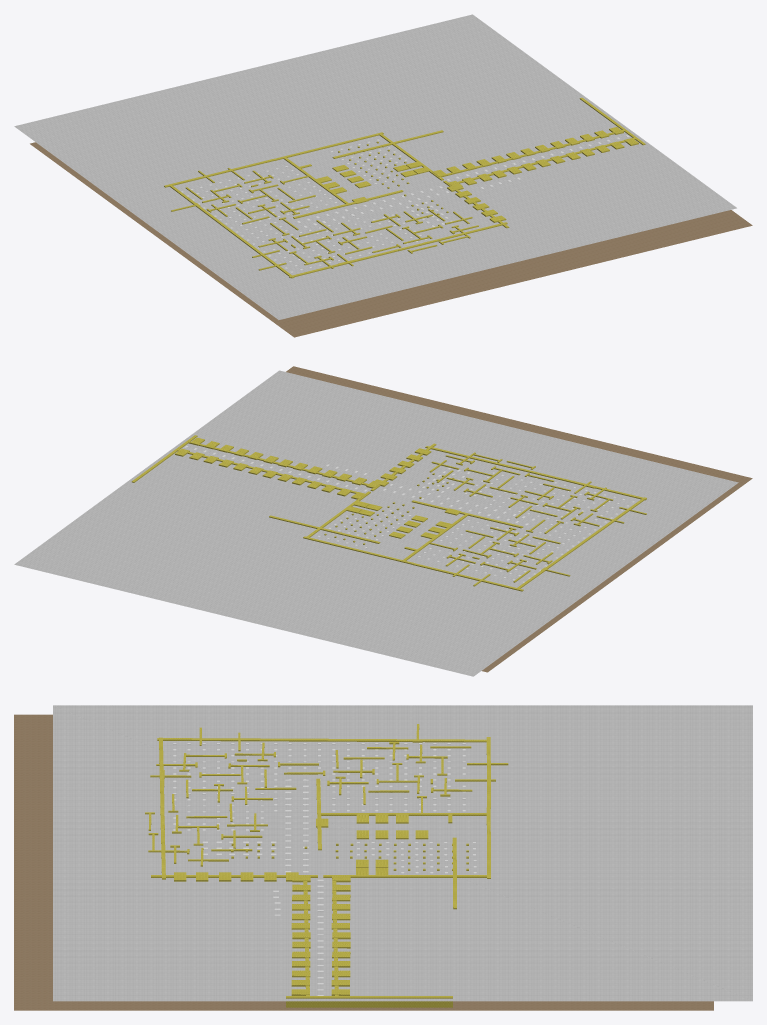
File: backrooms.fbx
The picture shows the model from 3 angles, top to bottom: view 1: azimuth 30°, elevation 25°; view 2: azimuth 150°, elevation 25°; view 3: azimuth 270°, elevation 25°; orthographic projection. The views are drawn at different scales.
Parts seen in each view (by area): view 1: Ceiling, Floor.002; view 2: Ceiling, Floor.002; view 3: Ceiling, Floor.002, Cube.199, Cube.201.
Part boxes in pixels (x1=…): Ceiling: x1=14, y1=14, x2=736, y2=319; Floor.002: x1=30, y1=142, x2=752, y2=337; Ceiling: x1=14, y1=370, x2=738, y2=676; Floor.002: x1=286, y1=366, x2=752, y2=672; Ceiling: x1=53, y1=705, x2=752, y2=1001; Floor.002: x1=14, y1=714, x2=713, y2=1010; Cube.199: x1=286, y1=996, x2=452, y2=1007; Cube.201: x1=157, y1=738, x2=489, y2=742.
Size of the model in its own units: 47197 by 845 by 49754.
